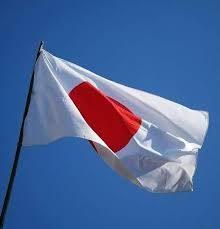Japanese Flag: (18, 49, 210, 196)
